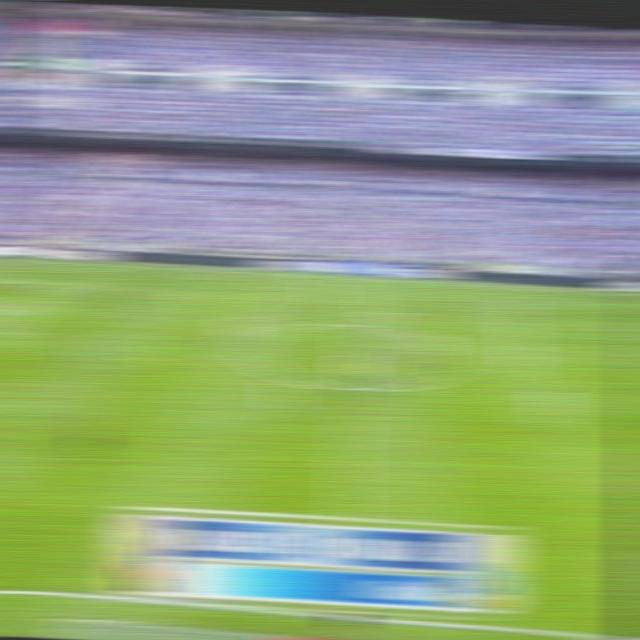halfcircle_top: (340, 315, 367, 332)
midline_bottom_intersection: (333, 502, 364, 525)
midline_top_intersection: (342, 272, 368, 284)
top_arc_area_intersection: (0, 299, 24, 313)
